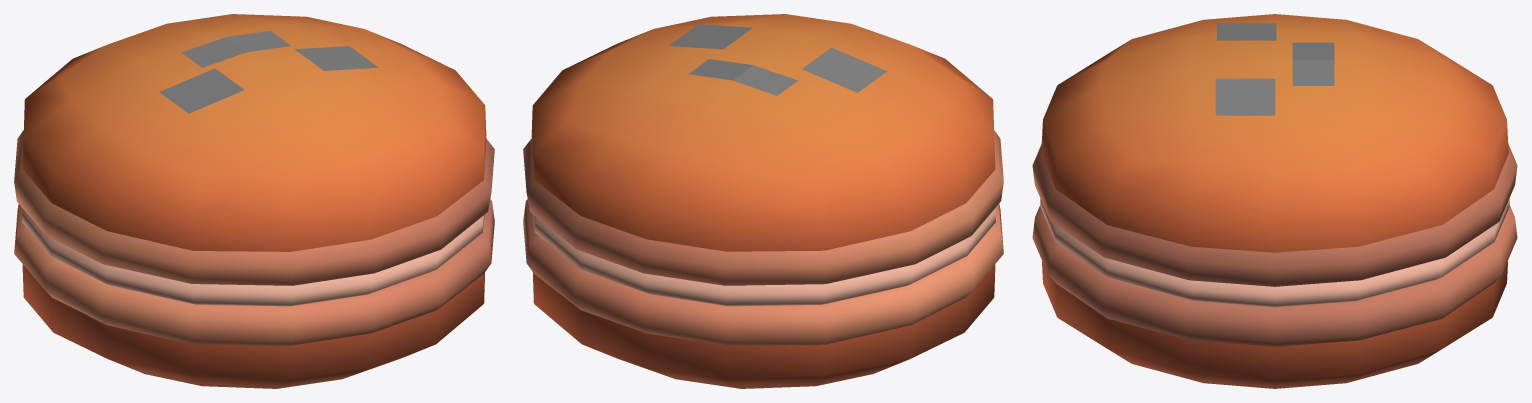
File: macaron_orange_smile.fbx
3 renders of one model, left to right at view 1: azimuth 30°, elevation 25°; view 2: azimuth 150°, elevation 25°; view 3: azimuth 270°, elevation 25°, orthographic.
Visible parts, largest first — view 1: macaron_orange, smile; view 2: macaron_orange, smile; view 3: macaron_orange, smile.
Boxes of the visible parts, x1=… form: macaron_orange: x1=14, y1=14, x2=494, y2=388; smile: x1=159, y1=31, x2=378, y2=113; macaron_orange: x1=523, y1=14, x2=1003, y2=388; smile: x1=669, y1=24, x2=886, y2=95; macaron_orange: x1=1032, y1=14, x2=1517, y2=388; smile: x1=1215, y1=23, x2=1334, y2=115.
Bounding box in the file's own units: 18.89 × 18.89 × 12.1.
2 materials, 1 textured.
